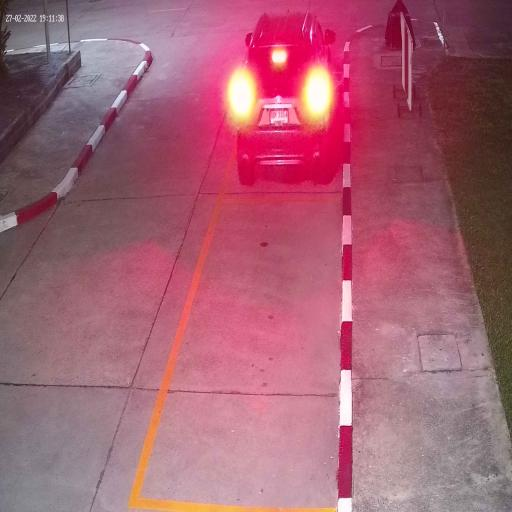car: (236, 12, 331, 186)
